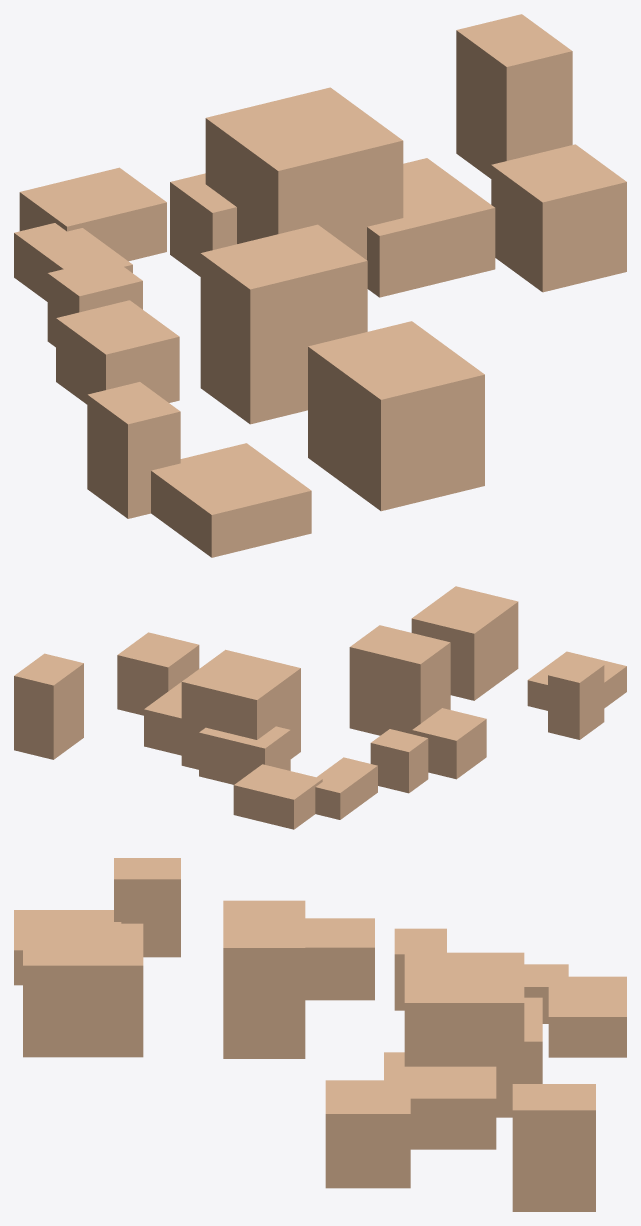
The picture shows the model from 3 angles, top to bottom: view 1: azimuth 30°, elevation 25°; view 2: azimuth 150°, elevation 25°; view 3: azimuth 270°, elevation 25°; orthographic projection. The views are drawn at different scales.
Bounding box in the file's own units: 161 × 31.18 × 151.
